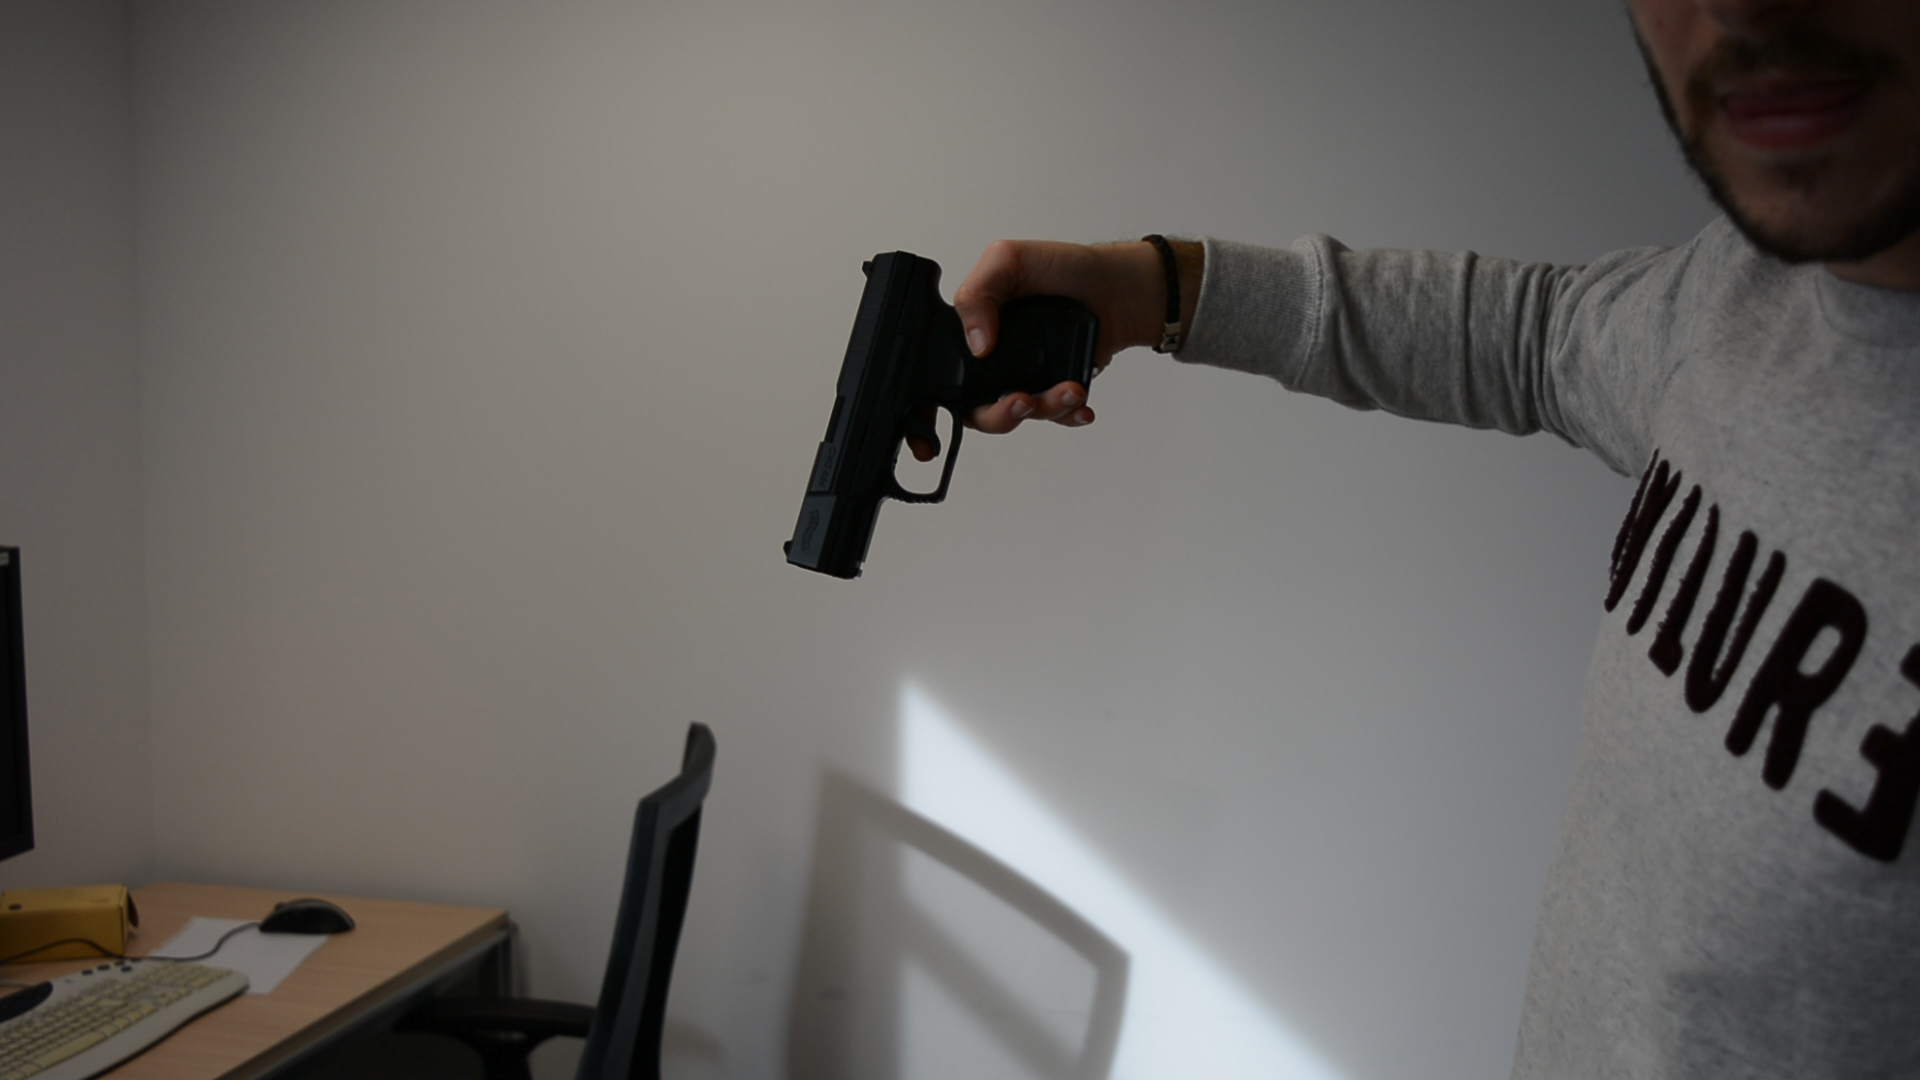pistol: (781, 247, 1105, 582)
